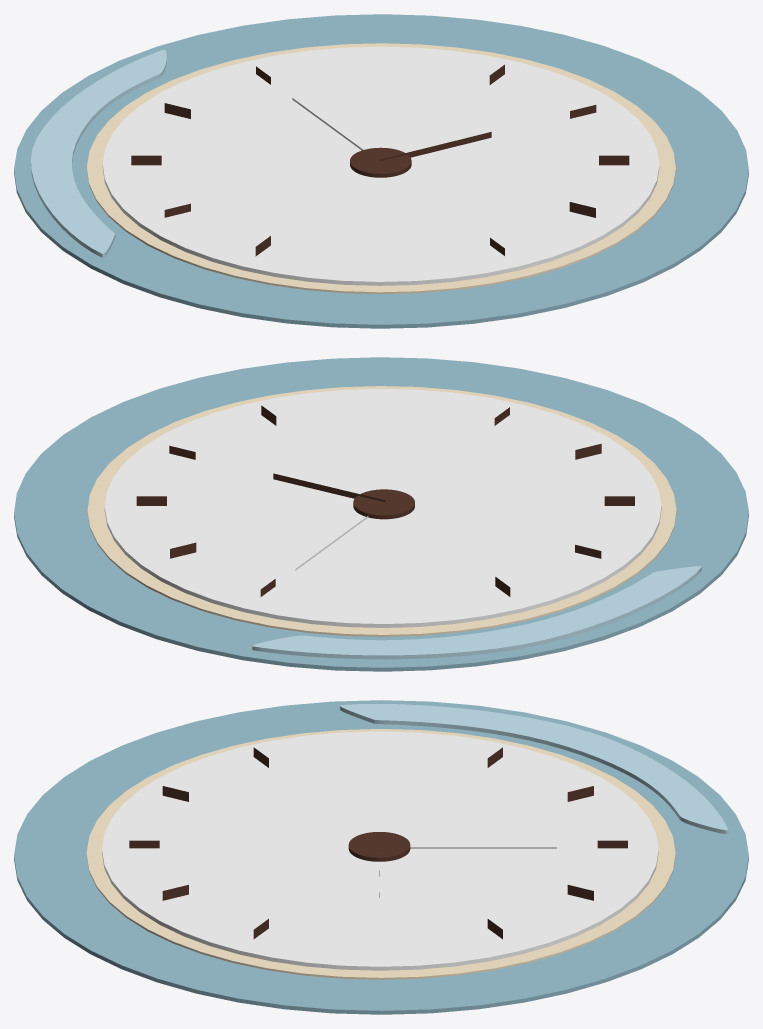
File: emoji_u1f552.glb
3 renders of one model, top to bottom at view 1: azimuth 30°, elevation 25°; view 2: azimuth 150°, elevation 25°; view 3: azimuth 270°, elevation 25°, orthographic.
Visible parts, largest first — view 1: emoji_u1f552; view 2: emoji_u1f552; view 3: emoji_u1f552.
Boxes of the visible parts, <box> form: emoji_u1f552: <box>14,14,748,328</box>; emoji_u1f552: <box>14,357,748,671</box>; emoji_u1f552: <box>14,700,748,1014</box>.
Bounding box in the file's own units: 0.0339 × 0.0018 × 0.0339.
